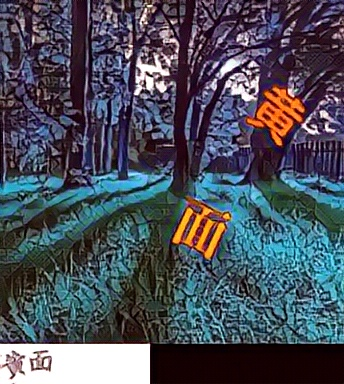BBC6: (244, 86, 306, 150)
C3E6: (169, 196, 231, 260)
